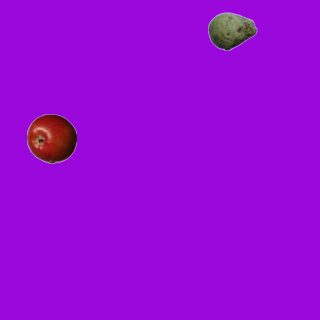Apple Braeburn: (26, 113, 76, 163)
Pear Stone: (207, 6, 257, 56)
